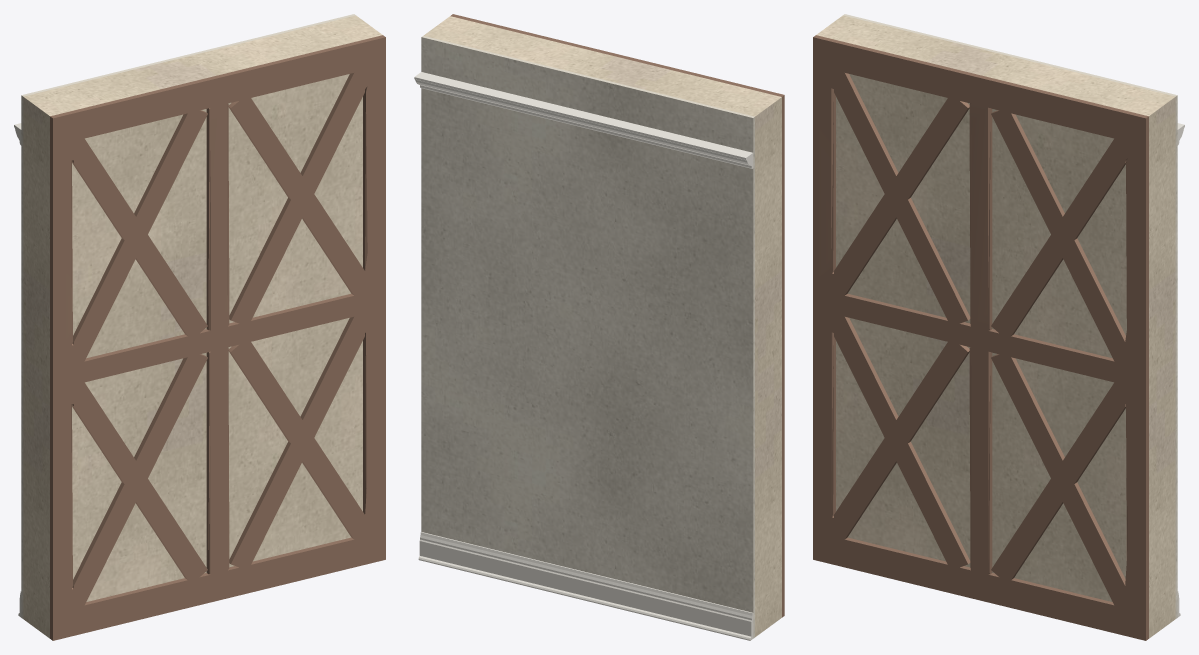
Rendered from wall_timber_plain.glb.
3 views of the same model, side by side, from view 1: azimuth 30°, elevation 25°; view 2: azimuth 150°, elevation 25°; view 3: azimuth 330°, elevation 25° (orthographic).
Parts seen in each view (by area): view 1: wall_timber_plain_timber, wall_timber_plain_render, wall_timber_plain_plaster; view 2: wall_timber_plain_plaster, wall_timber_plain_render, molduras, wall_timber_plain_timber; view 3: wall_timber_plain_timber, wall_timber_plain_render, wall_timber_plain_plaster.
Boxes of the visible parts, x1,y1,x2,y2 form: wall_timber_plain_timber: (50, 35, 385, 640); wall_timber_plain_render: (23, 15, 382, 638); wall_timber_plain_plaster: (21, 14, 355, 618); wall_timber_plain_plaster: (421, 36, 754, 638); wall_timber_plain_render: (423, 16, 781, 637); molduras: (414, 72, 753, 640); wall_timber_plain_timber: (450, 14, 784, 617); wall_timber_plain_timber: (813, 35, 1148, 640); wall_timber_plain_render: (816, 15, 1175, 638); wall_timber_plain_plaster: (843, 14, 1177, 618).
Bounding box in the file's own units: 2 × 3 × 0.405.
Materials: 4 (2 with a texture image).
